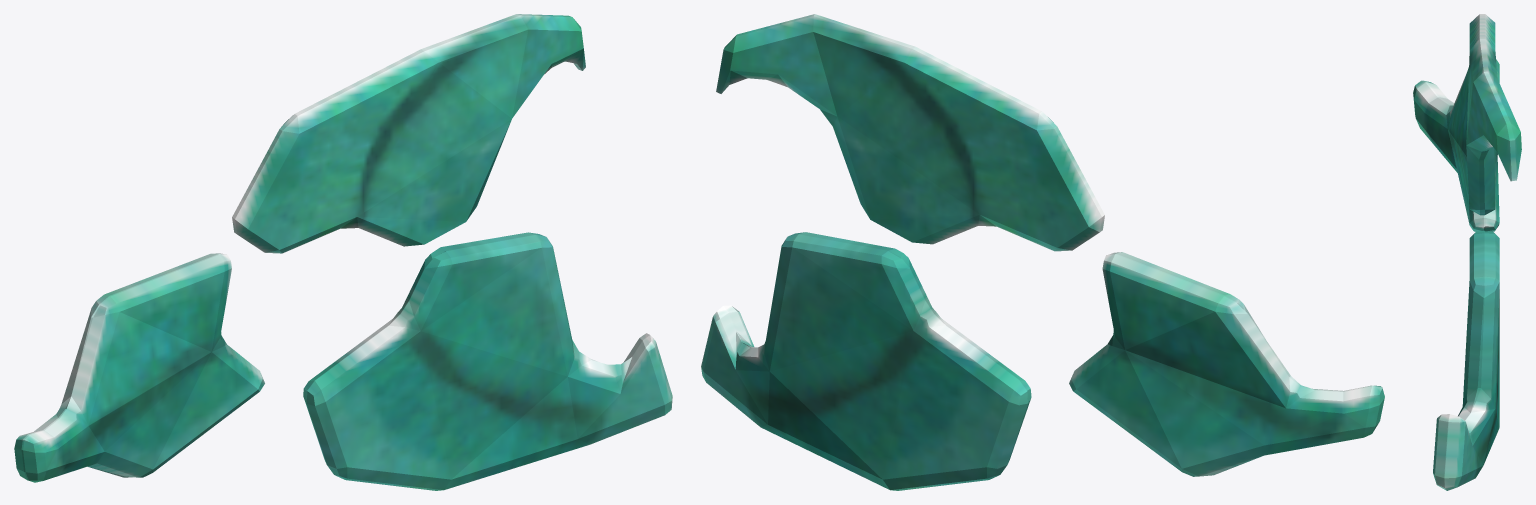
File: leafherb.fbx
3 views of the same model, side by side, from view 1: azimuth 30°, elevation 25°; view 2: azimuth 150°, elevation 25°; view 3: azimuth 270°, elevation 25° (orthographic). The views are drawn at different scales.
Parts seen in each view (by area): view 1: lef.002, lef, lef.001; view 2: lef.002, lef, lef.001; view 3: lef.002, lef, lef.001.
Boxes of the visible parts, x1,y1,x2,y2 form: lef.002: [303, 232, 672, 490]; lef: [232, 14, 585, 253]; lef.001: [14, 253, 264, 482]; lef.002: [701, 232, 1031, 490]; lef: [716, 14, 1104, 251]; lef.001: [1069, 252, 1384, 476]; lef.002: [1433, 230, 1499, 490]; lef: [1466, 14, 1521, 215]; lef.001: [1413, 59, 1499, 231].
Size of the model in its own units: 101 by 66.29 by 16.22.
